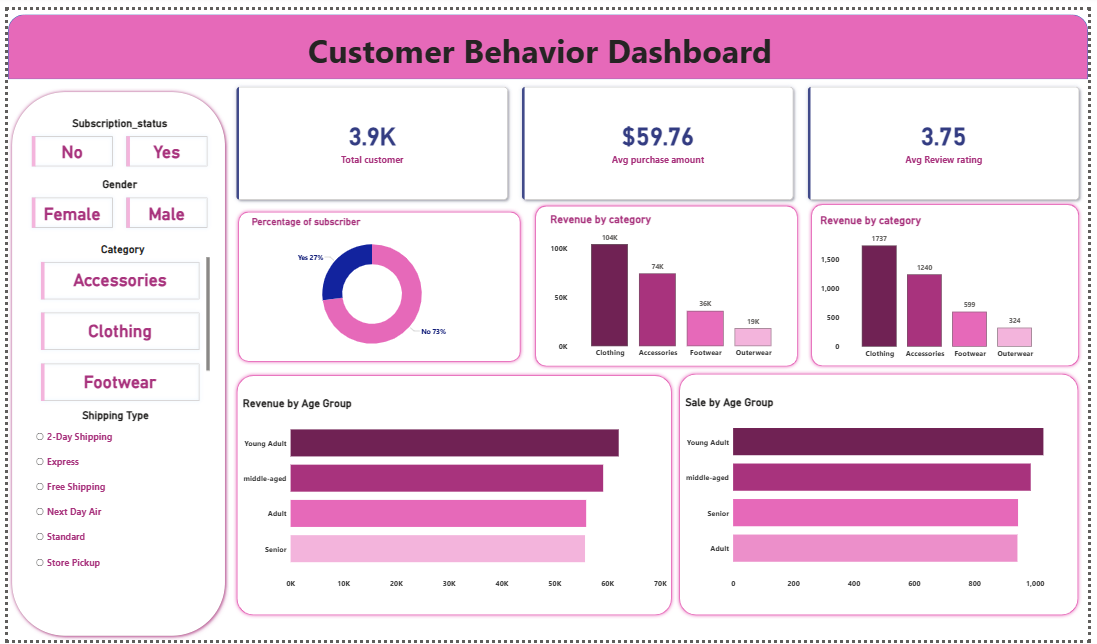

Layout of this report page (visuals, bound fields, positions):
{"tool":"powerbi","page":{"name":"Page 1","canvas":[2400,1400],"ordinal":0},"visuals":[{"type":"cardVisual","fields":{"Data":["public customer.Total customer","public customer.Avg purchase amount","public customer.Avg Review rating"]},"box":[491.2,152.9,1908.8,285.3],"z":0},{"type":"shape","box":[0,8.8,2400,144.1],"z":1000},{"type":"textbox","box":[511.8,32.4,1338.2,120.6],"z":2000},{"type":"shape","box":[503.6,439.4,644.1,350],"z":2001,"group":"g1"},{"type":"shape","box":[1483.3,800,903.3,553.3],"z":2001,"group":"g5"},{"type":"shape","box":[500,803.3,983.3,550],"z":2001,"group":"g4"},{"type":"donutChart","title":"Percentage of subscriber","fields":{"Category":["public customer.subscription_status"],"Y":["CountNonNull(public customer.customer_id)"]},"box":[537,455.7,544.1,323.5],"z":2002,"group":"g1"},{"type":"shape","box":[1161.8,426.5,599.9,373.9],"z":2003,"group":"g2"},{"type":"shape","box":[1775.1,422.3,611.8,376.5],"z":2004,"group":"g3"},{"type":"group","id":"g1","title":"Group 1","box":[503.6,439.4,644.1,350],"z":2005},{"type":"clusteredColumnChart","title":"Revenue by category","fields":{"Y":["Sum(public customer.purchase_amount)"],"Category":["public customer.category"]},"box":[1198.7,449,547,332.7],"z":2006,"group":"g2"},{"type":"clusteredColumnChart","title":"Revenue by category","fields":{"Category":["public customer.category"],"Y":["CountNonNull(public customer.customer_id)"]},"box":[1797.1,453,523.5,330.2],"z":2006,"group":"g3"},{"type":"group","id":"g2","title":"Group 2","box":[1161.8,426.5,600,373.5],"z":2007},{"type":"group","id":"g3","title":"Group 3","box":[1775.1,422.3,611.8,376.5],"z":2008},{"type":"shape","box":[0,173.5,491.2,1226.5],"z":2009},{"type":"advancedSlicerVisual","title":"Gender","fields":{"Values":["public customer.gender"]},"box":[35.3,373.5,423.5,126.5],"z":2011},{"type":"advancedSlicerVisual","title":"Subscription_status","fields":{"Values":["public customer.subscription_status"]},"box":[35.3,235.3,423.5,126.5],"z":2012},{"type":"advancedSlicerVisual","title":"Category","fields":{"Values":["public customer.category"]},"box":[55.9,517.6,397.1,370.6],"z":2013},{"type":"listSlicer","title":"Shipping Type","fields":{"Values":["public customer.shipping_type"]},"box":[55.9,888.2,364.7,491.2],"z":2014},{"type":"clusteredBarChart","title":"Sale by Age Group","fields":{"Category":["public customer.age_group"],"Y":["CountNonNull(public customer.customer_id)"]},"box":[1498.8,857.5,874.9,438.4],"z":2015,"group":"g5"},{"type":"clusteredBarChart","title":"Revenue by Age Group","fields":{"Category":["public customer.age_group"],"Y":["Sum(public customer.purchase_amount)"]},"box":[516.9,860.4,952.3,435.7],"z":2015,"group":"g4"},{"type":"group","id":"g4","title":"Group 4","box":[500,803.3,983.3,550],"z":2016},{"type":"group","id":"g5","title":"Group 4","box":[1483.3,800,903.3,553.3],"z":2017}]}

Visuals, with their boxes in screenshot pixels (x1, y1, x2, y2), scaled from the page's 2400x1400 canvas onto the 1097x644 screenshot:
cardVisual - public customer.Total customer x public customer.Avg purchase amount: box(225, 70, 1096, 202)
shape: box(0, 4, 1096, 70)
textbox: box(234, 15, 846, 70)
shape: box(230, 202, 525, 363)
shape: box(678, 368, 1091, 623)
shape: box(229, 370, 678, 623)
"Percentage of subscriber" donutChart: box(245, 210, 494, 358)
shape: box(531, 196, 805, 368)
shape: box(811, 194, 1091, 367)
"Group 1" group: box(230, 202, 525, 363)
"Revenue by category" clusteredColumnChart: box(548, 207, 798, 360)
"Revenue by category" clusteredColumnChart: box(821, 208, 1061, 360)
"Group 2" group: box(531, 196, 805, 368)
"Group 3" group: box(811, 194, 1091, 367)
shape: box(0, 80, 225, 643)
"Gender" advancedSlicerVisual: box(16, 172, 210, 230)
"Subscription_status" advancedSlicerVisual: box(16, 108, 210, 166)
"Category" advancedSlicerVisual: box(26, 238, 207, 409)
"Shipping Type" listSlicer: box(26, 409, 192, 635)
"Sale by Age Group" clusteredBarChart: box(685, 394, 1085, 596)
"Revenue by Age Group" clusteredBarChart: box(236, 396, 672, 596)
"Group 4" group: box(229, 370, 678, 623)
"Group 4" group: box(678, 368, 1091, 623)
